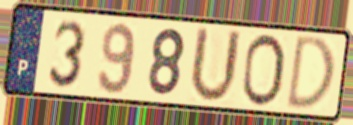3: (47, 18, 88, 90)
8: (146, 26, 186, 98)
9: (95, 20, 138, 96)
D: (283, 33, 338, 112)
O: (238, 31, 287, 109)
U: (187, 24, 244, 107)
